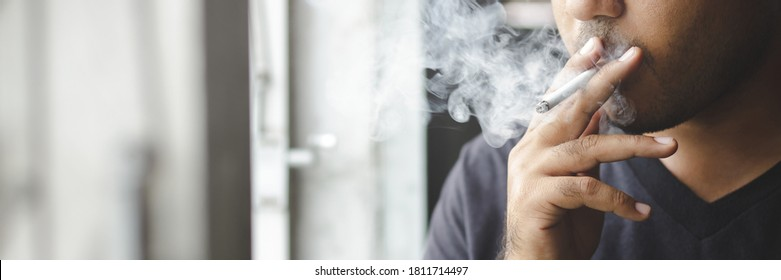cigarette: (533, 65, 602, 117)
